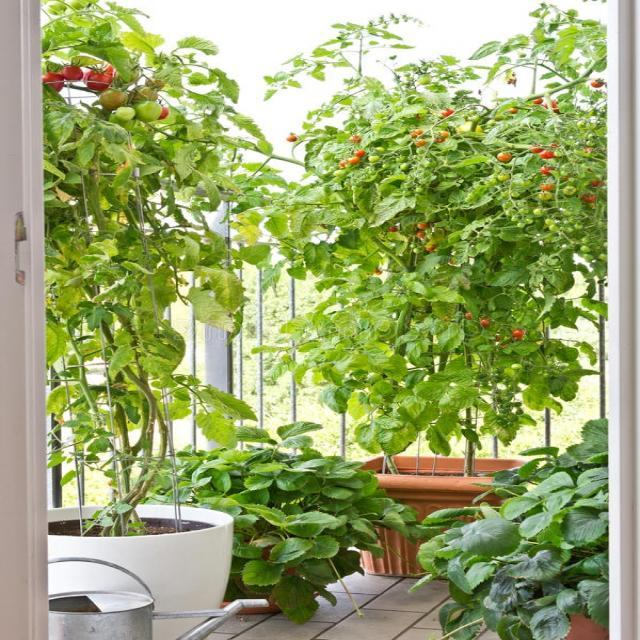plant: (177, 423, 418, 625), (420, 421, 609, 640)
tomato: (279, 5, 608, 450), (41, 1, 254, 538), (486, 179, 491, 188), (485, 207, 489, 214)
